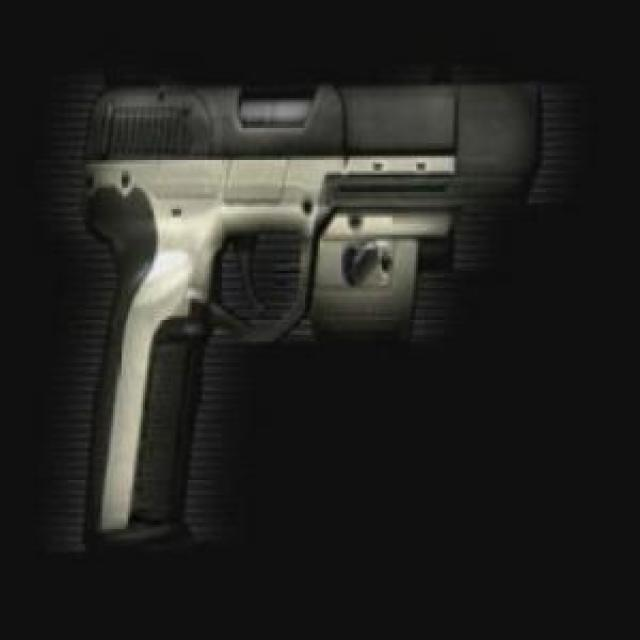pistol: (75, 58, 545, 565)
